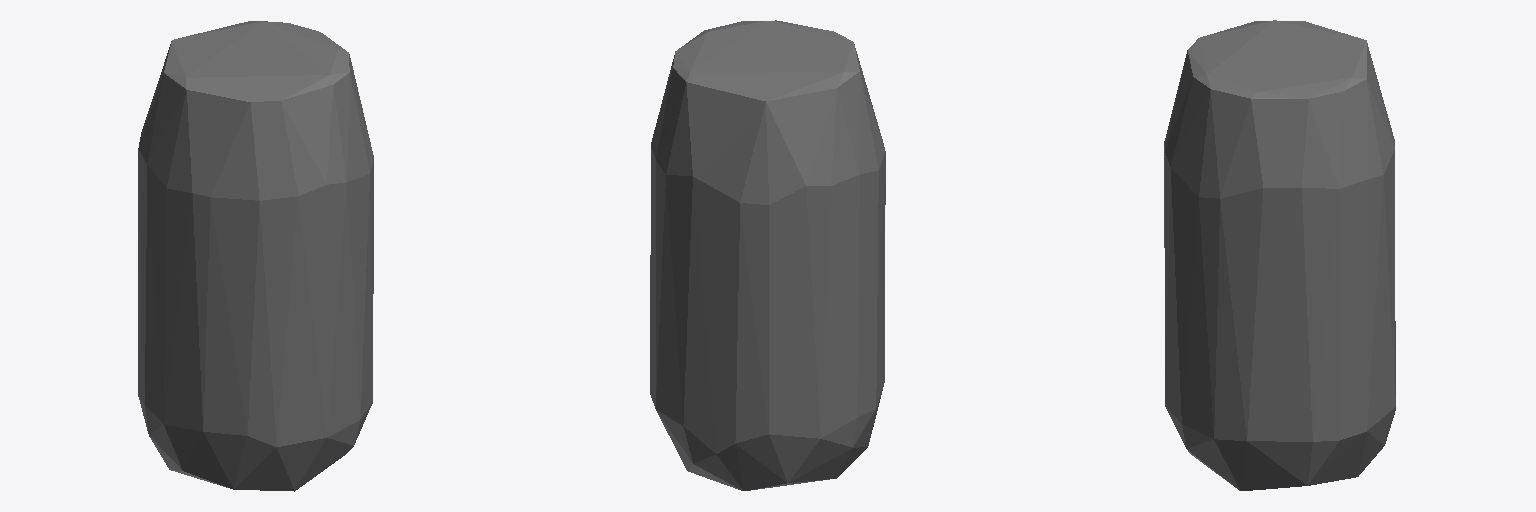
URDF robot description (jar_024):
<?xml version="1.0" ?>
<robot name="jar_024">
  <material name="color">
    <color rgba=".5 .5 .5 1"/>
  </material>

  <link name="base_link">
    <contact>
      <lateral_friction value="1.0"/>
      <rolling_friction value="0.001"/>
      <spinning_friction value="0.001"/>
      <inertia_scaling value="1.0"/>
    </contact>
    <inertial>
      <origin rpy="0 0 0" xyz="3.67449e-08 9.52016e-06 -0.00269735"/>
       <mass value="0.1"/>
       <inertia ixx="1" ixy="0" ixz="0" iyy="1" iyz="0" izz="1"/>
    </inertial>

    <visual>
      <origin rpy="0 0 0" xyz="0 0 0"/>
      <geometry>
        <mesh filename="jar_024_vhacd_0_of_1.obj" scale="1 1 1"/>
      </geometry>
      <material name="color"/>
    </visual>

    <collision>
      <origin rpy="0 0 0" xyz="0 0 0"/>
      <geometry>
        <mesh filename="jar_024_vhacd_0_of_1.obj" scale="1 1 1"/>
      </geometry>
    </collision>

  </link>
</robot>

--- What the picture shows (computed from the rendered views, not written in the file) ---
Views: 3 orthographic renders of the robot side by side, from view 1: azimuth 30°, elevation 25°; view 2: azimuth 150°, elevation 25°; view 3: azimuth 270°, elevation 25°.
Model jar_024 with 1 links and 0 joints (none), rooted at base_link, posed every joint at zero.
Links seen in each view (by area): view 1: base_link; view 2: base_link; view 3: base_link.
Link boxes in pixels (x1=…): base_link: x1=138, y1=21, x2=373, y2=491; base_link: x1=650, y1=20, x2=885, y2=490; base_link: x1=1164, y1=20, x2=1395, y2=490.
Bounding box of the posed robot: 0.1232 × 0.1233 × 0.236 m (x, y, z).
1 mesh visuals loaded from 1 distinct referenced files (1 OBJ).